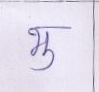u_matra: (31, 49, 56, 72)
